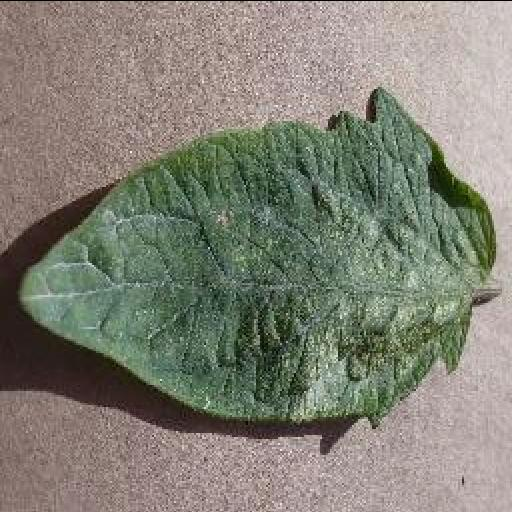disease_tomato: (18, 88, 498, 424)
